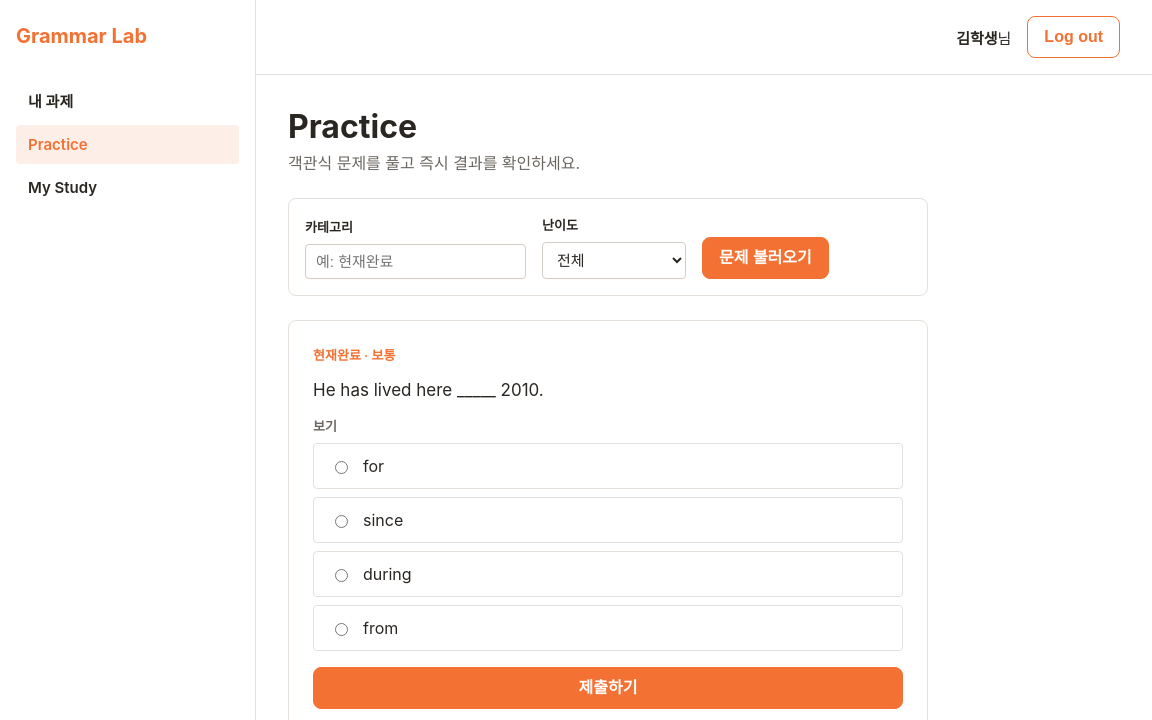
Test: StudentPracticePage › provides a next-question action after a result that fetches and shows a new question
Expected: the text "He has lived here _____ 2010." is shown, [313,380,544,400]
Click the radio button labelled "since" at (342, 522), box [335,515,348,528]
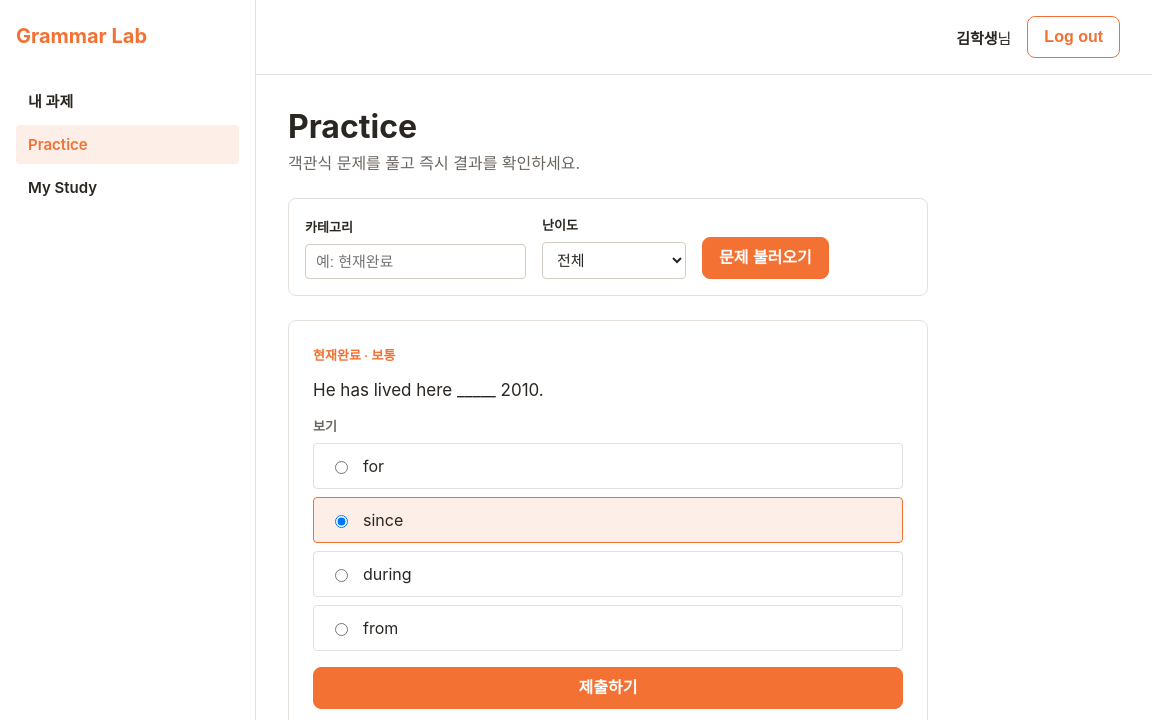
Click the button "제출하기" at (608, 688), box [313,667,903,709]
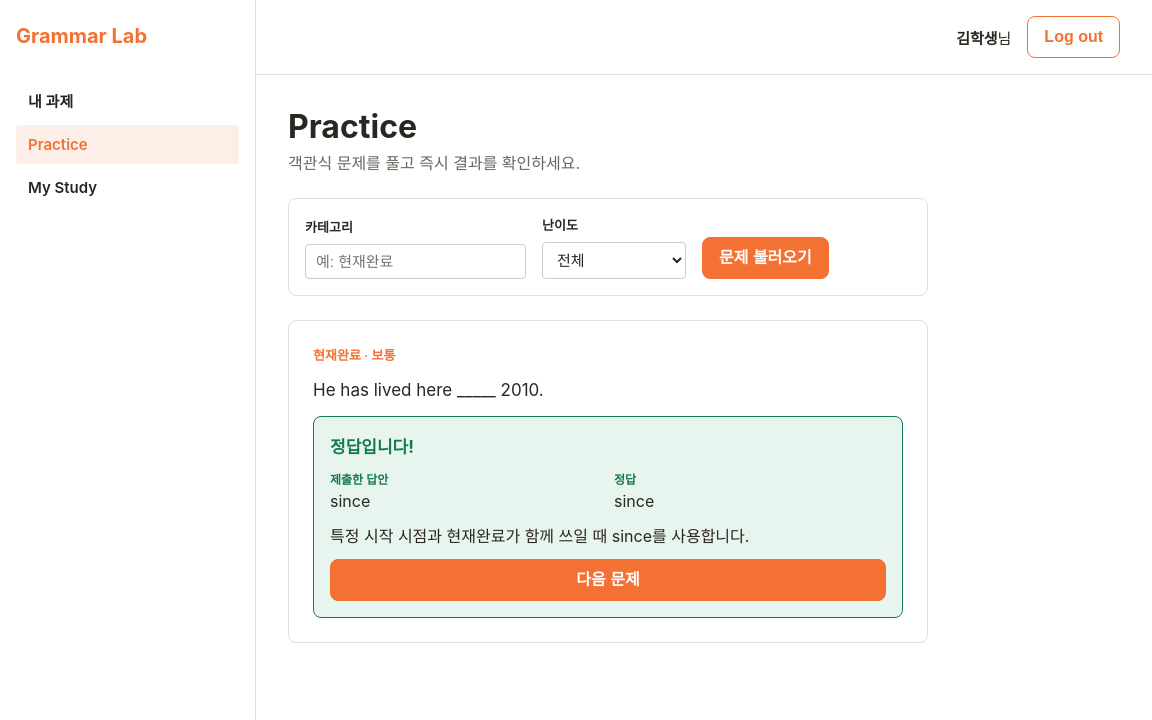
Result: the message shows "정답입니다!" at [330,437,414,457]
Click the button "다음 문제" at (608, 580), box [330,559,886,601]
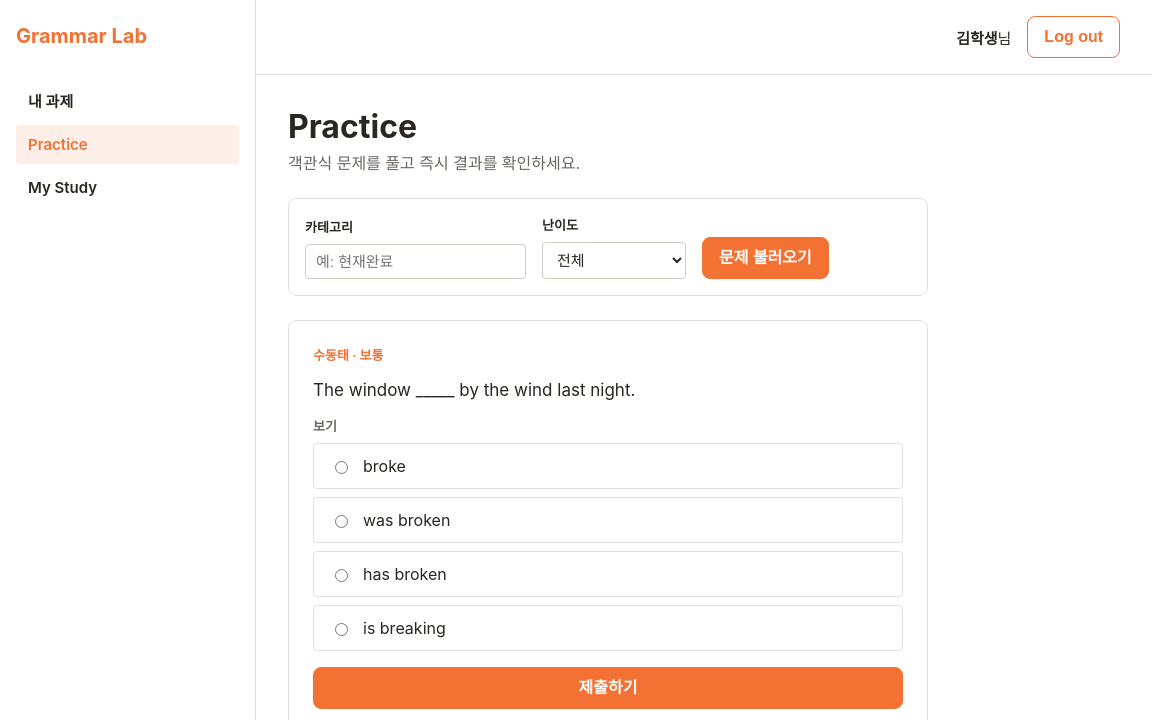
Result: the text "The window _____ by the wind last night." is shown at [313,380,635,400]
Result: the text "정답입니다!" is gone
